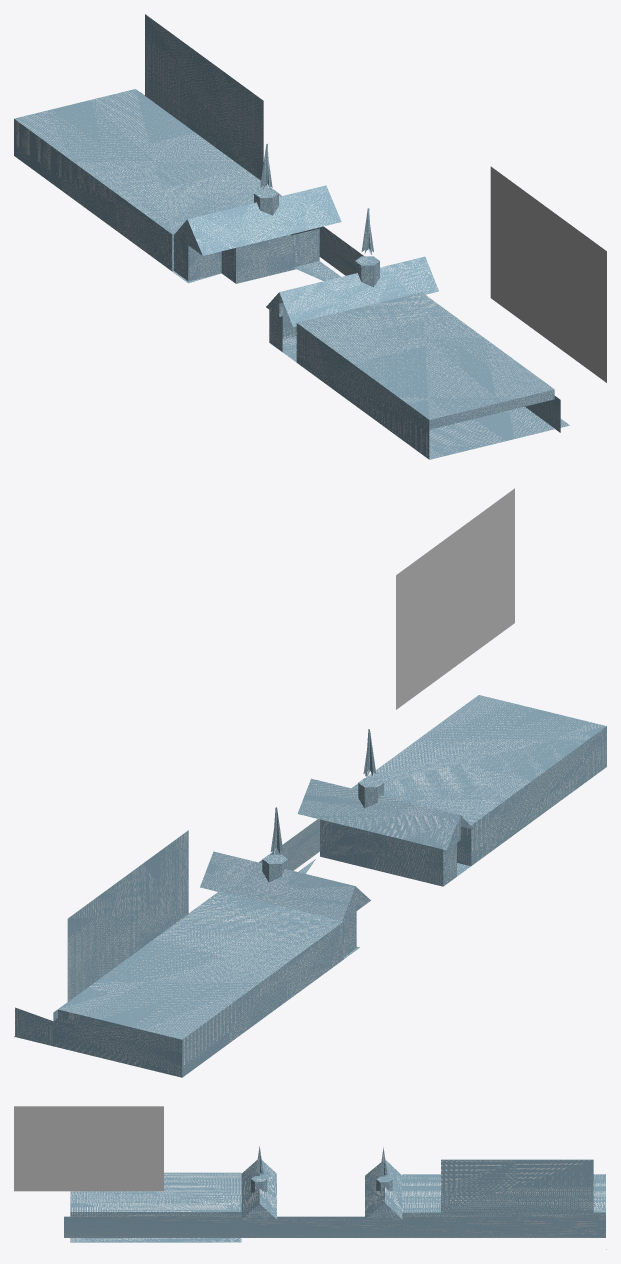
File: churchill3.obj
3 renders of one model, top to bottom at view 1: azimuth 30°, elevation 25°; view 2: azimuth 150°, elevation 25°; view 3: azimuth 270°, elevation 25°, orthographic. The views are drawn at different scales.
Parts seen in each view (by area): view 1: SketchUp_ID57, image_0_ID145, SketchUp.001_ID65, group_0_ID4; view 2: SketchUp_ID57, image_0_ID145, SketchUp.001_ID65; view 3: SketchUp_ID57, image_0_ID145, SketchUp.001_ID65, group_0_ID4, group_1_ID19.
Boxes of the visible parts, x1,y1,x2,y2 form: SketchUp_ID57: (14,14,569,459); image_0_ID145: (490,166,606,382); SketchUp.001_ID65: (140,92,560,432); group_0_ID4: (355,256,379,287); SketchUp_ID57: (14,695,606,1077); image_0_ID145: (396,488,514,709); SketchUp.001_ID65: (53,819,319,1020); SketchUp_ID57: (70,1159,606,1249); image_0_ID145: (14,1106,163,1191); SketchUp.001_ID65: (64,1216,605,1237); group_0_ID4: (251,1176,267,1192); group_1_ID19: (376,1176,392,1190).
Bounding box in the file's own units: 1.08 × 1.28 × 5.13.
